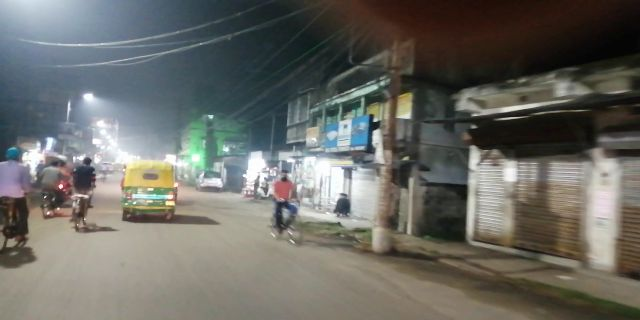Autorickshaw: (122, 164, 182, 228)
Cycle: (262, 166, 311, 250), (67, 153, 94, 234)
